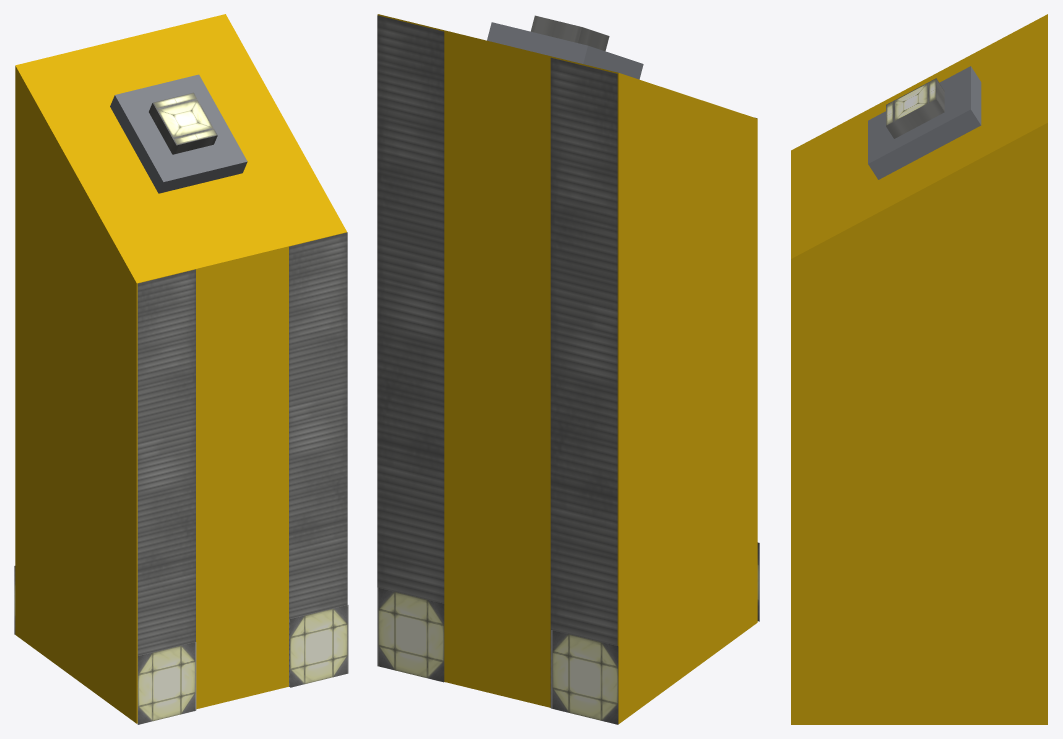
Rendered from Platform_button.FBX.
3 views of the same model, side by side, from view 1: azimuth 30°, elevation 25°; view 2: azimuth 150°, elevation 25°; view 3: azimuth 270°, elevation 25° (orthographic). The views are drawn at different scales.
Visible parts, largest first — view 1: Platform_Button_mesh; view 2: Platform_Button_mesh; view 3: Platform_Button_mesh.
Part boxes in pixels (box(x1,y1,x2,y2)): Platform_Button_mesh: box(14, 14, 348, 724); Platform_Button_mesh: box(377, 14, 759, 724); Platform_Button_mesh: box(791, 14, 1047, 724).
Size of the model in its own units: 50.09 by 129 by 50.78.
Materials: 3 (3 with a texture image).
